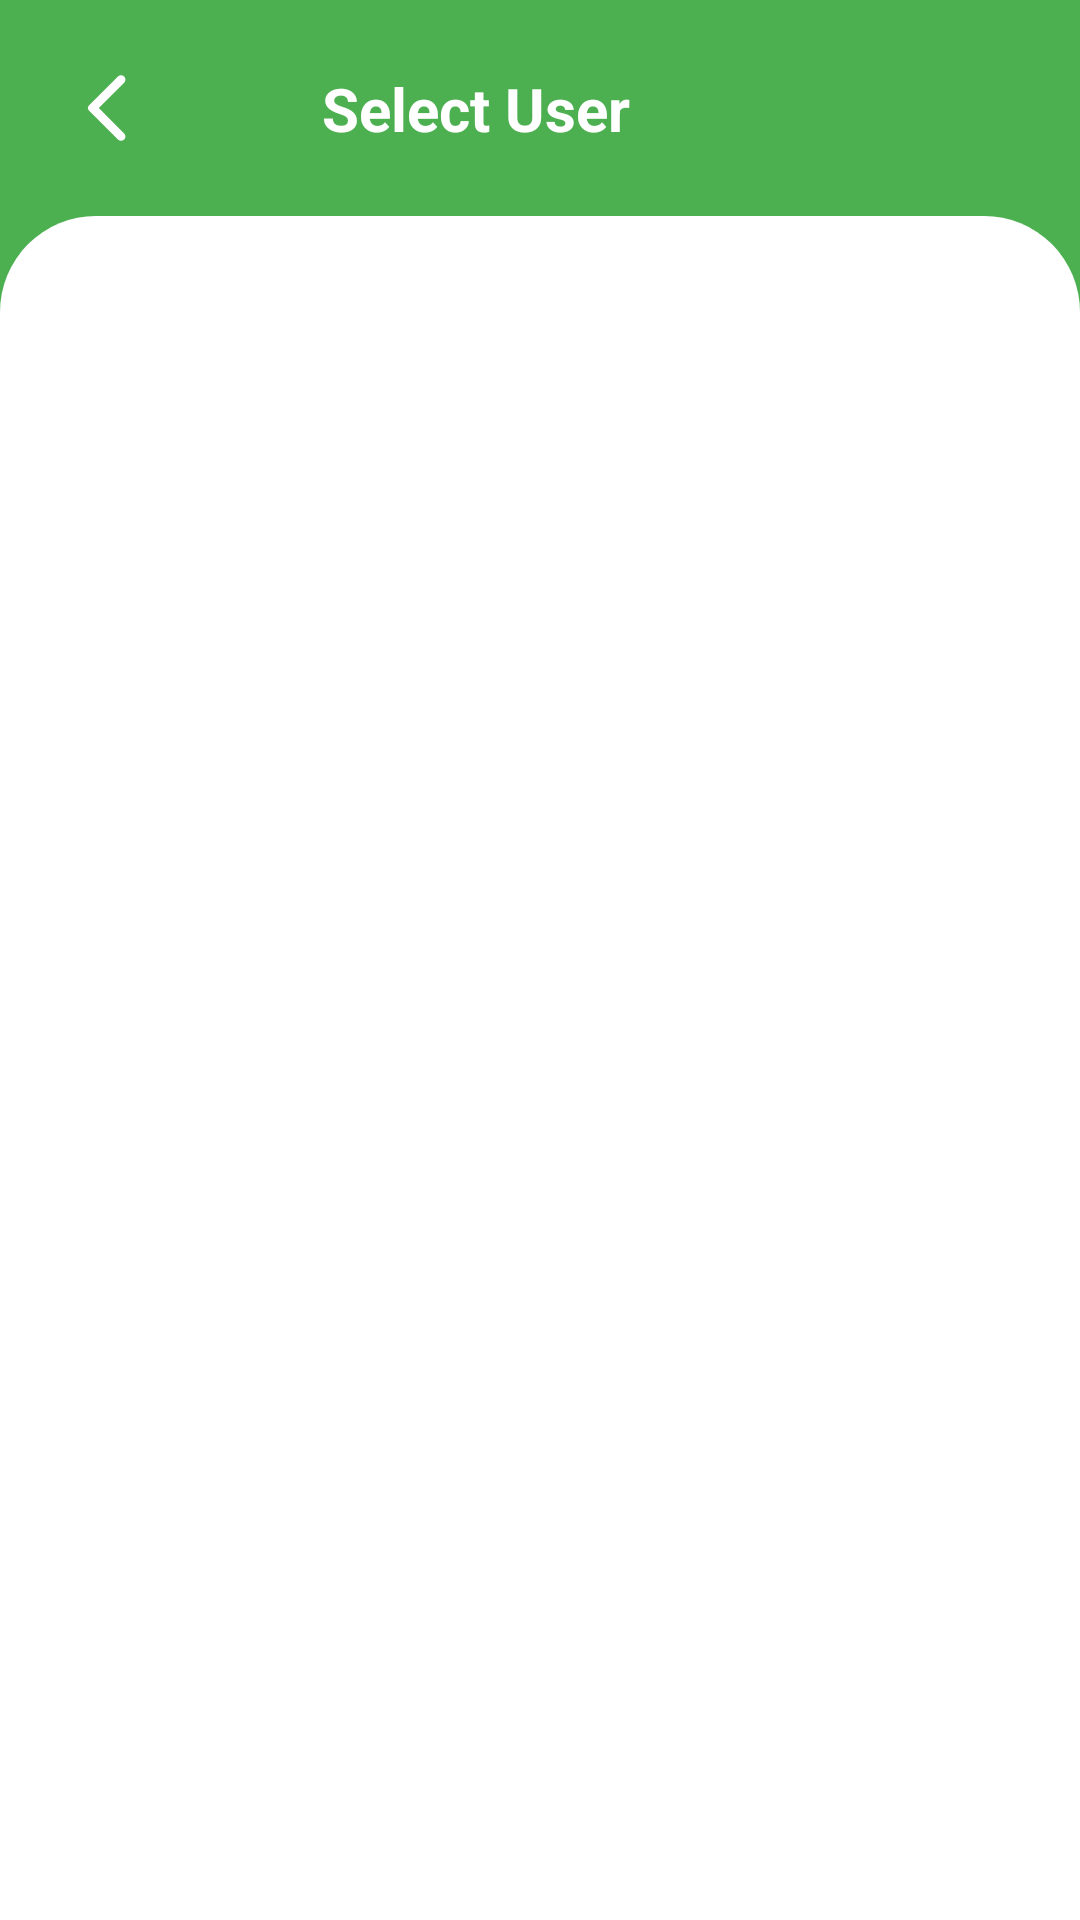

Named icons in this screenshot (1080w x 1920h) and their bounding boxes, (x1, y1, x2, y2):
back: (88, 75, 126, 141)
